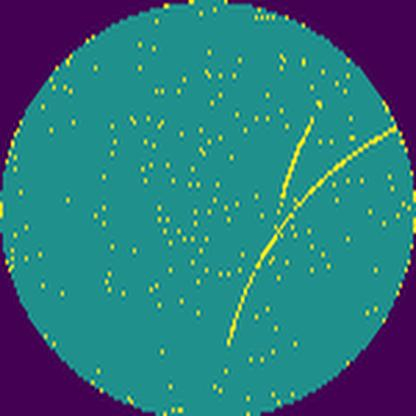Scratch: (224, 125, 400, 352), (278, 114, 318, 204)
